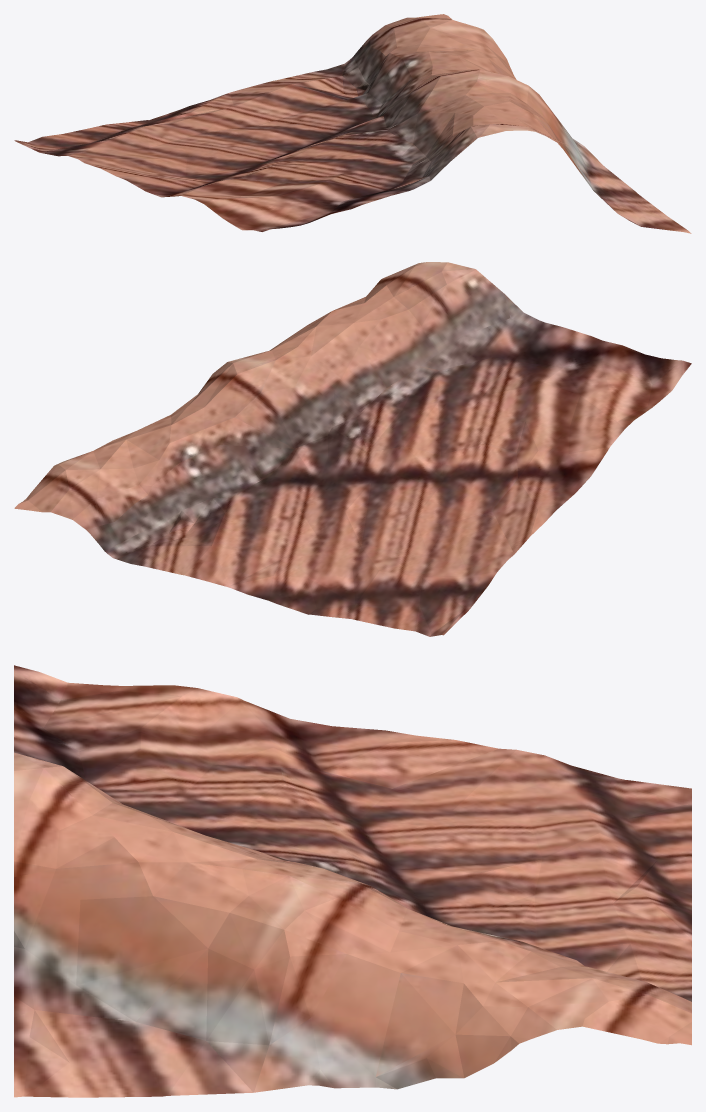
3 renders of one model, top to bottom at view 1: azimuth 30°, elevation 25°; view 2: azimuth 150°, elevation 25°; view 3: azimuth 270°, elevation 25°, orthographic. The views are drawn at different scales.
Size of the model in its own units: 0.8374 by 0.2764 by 0.8374.
Materials: 3 (3 with a texture image).
